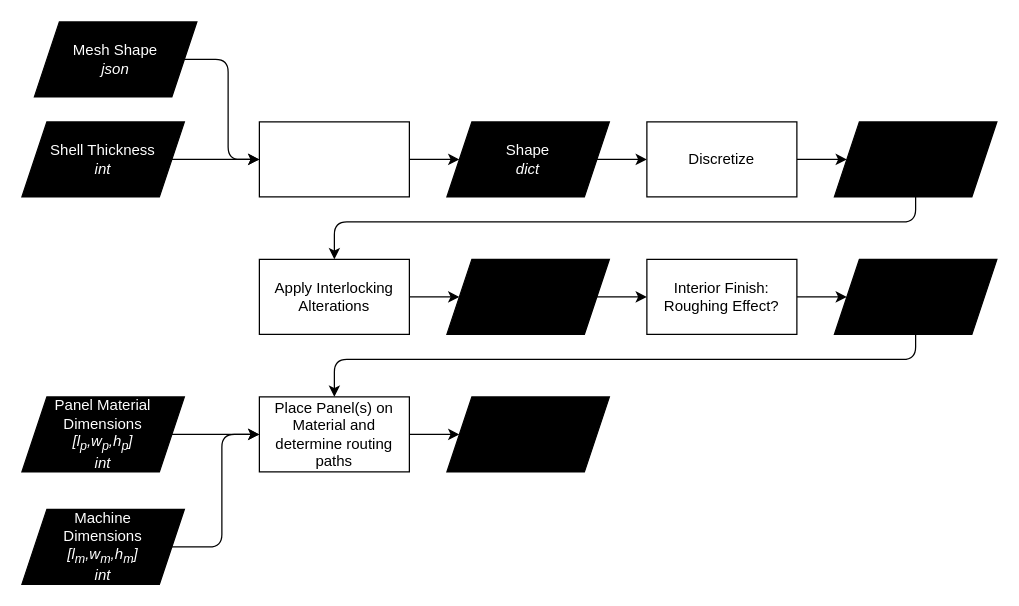
This 1019x606 diagram has some shape labels left out. Each missing label, with the centre of its shape:
Fabrication... etc. ...: pixel 527 434
Final Panels dict: pixel 915 296
Interlocking Panels dict: pixel 527 296
Offset Mesh: pixel 333 159
Panels dict: pixel 915 159
